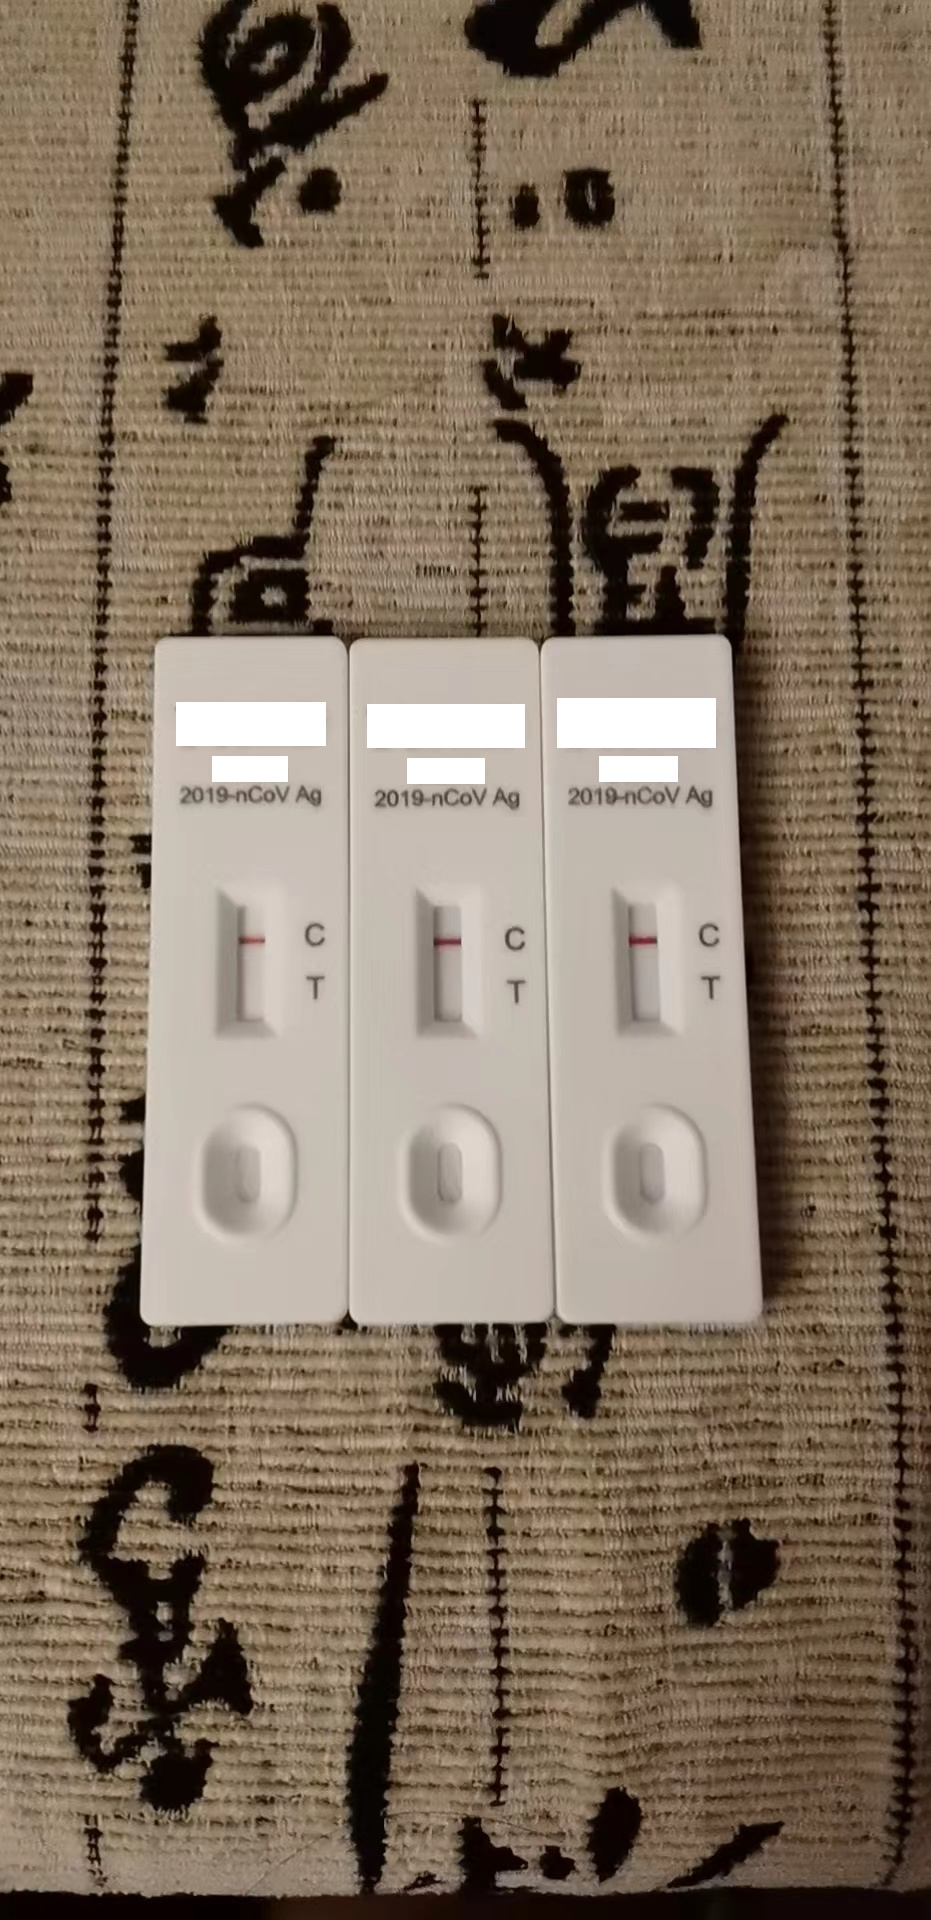negative: (610, 884, 682, 1037), (216, 889, 279, 1038), (417, 888, 477, 1040)
